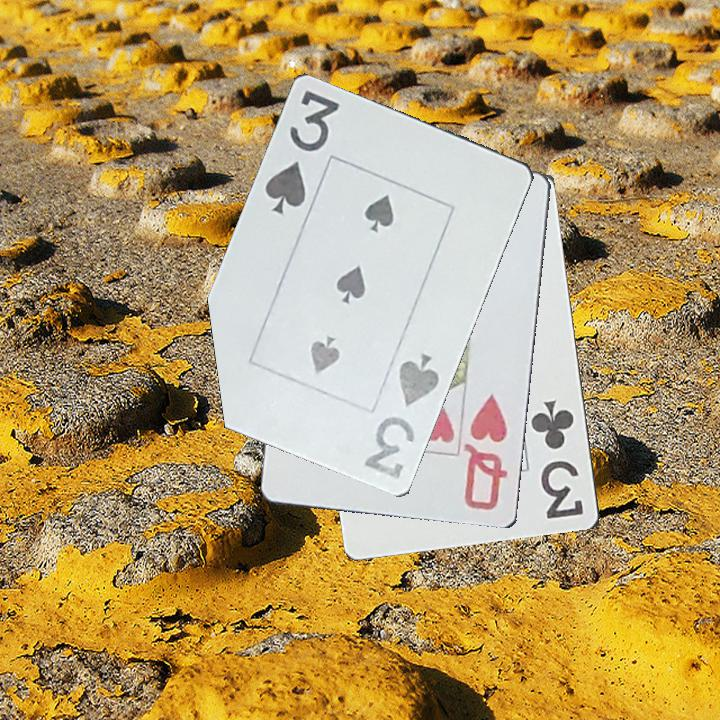3c: (527, 396, 587, 522)
3s: (360, 350, 443, 483), (261, 87, 343, 218)
Qh: (460, 390, 511, 514)
